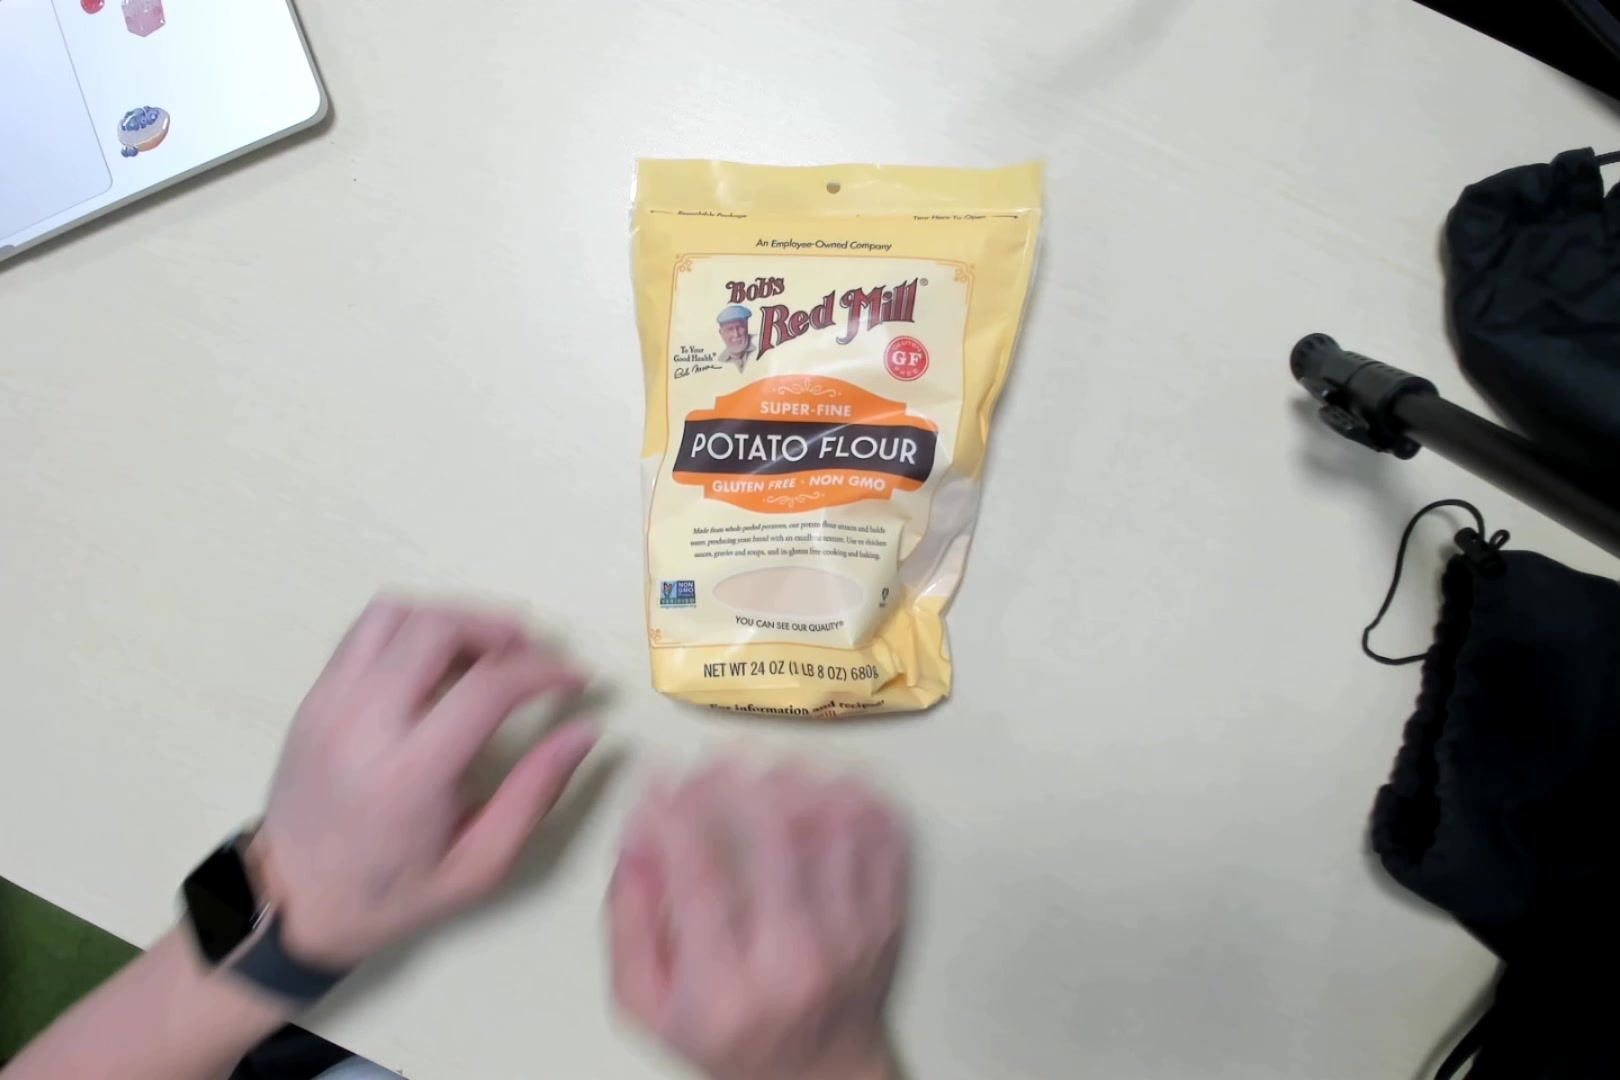OtherBakingNeeds_600-699g_NonHalal_NonHealthy: (616, 157, 1051, 721)
